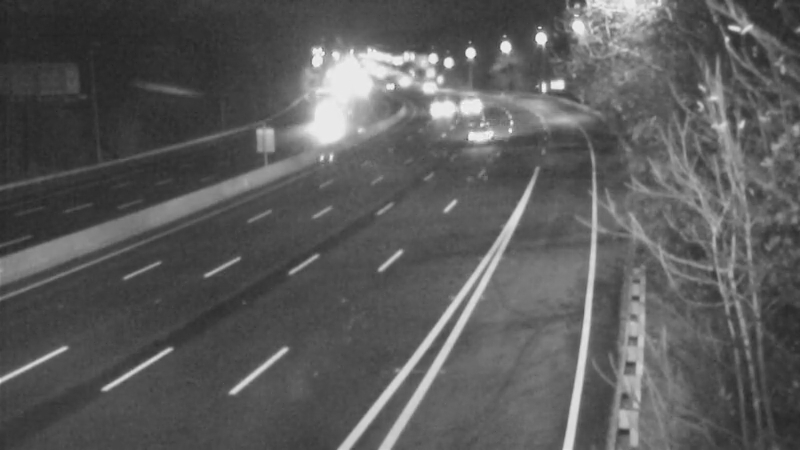vehicle: (402, 62, 452, 112), (443, 76, 493, 126), (414, 85, 464, 135), (450, 105, 500, 155), (302, 98, 352, 148)
